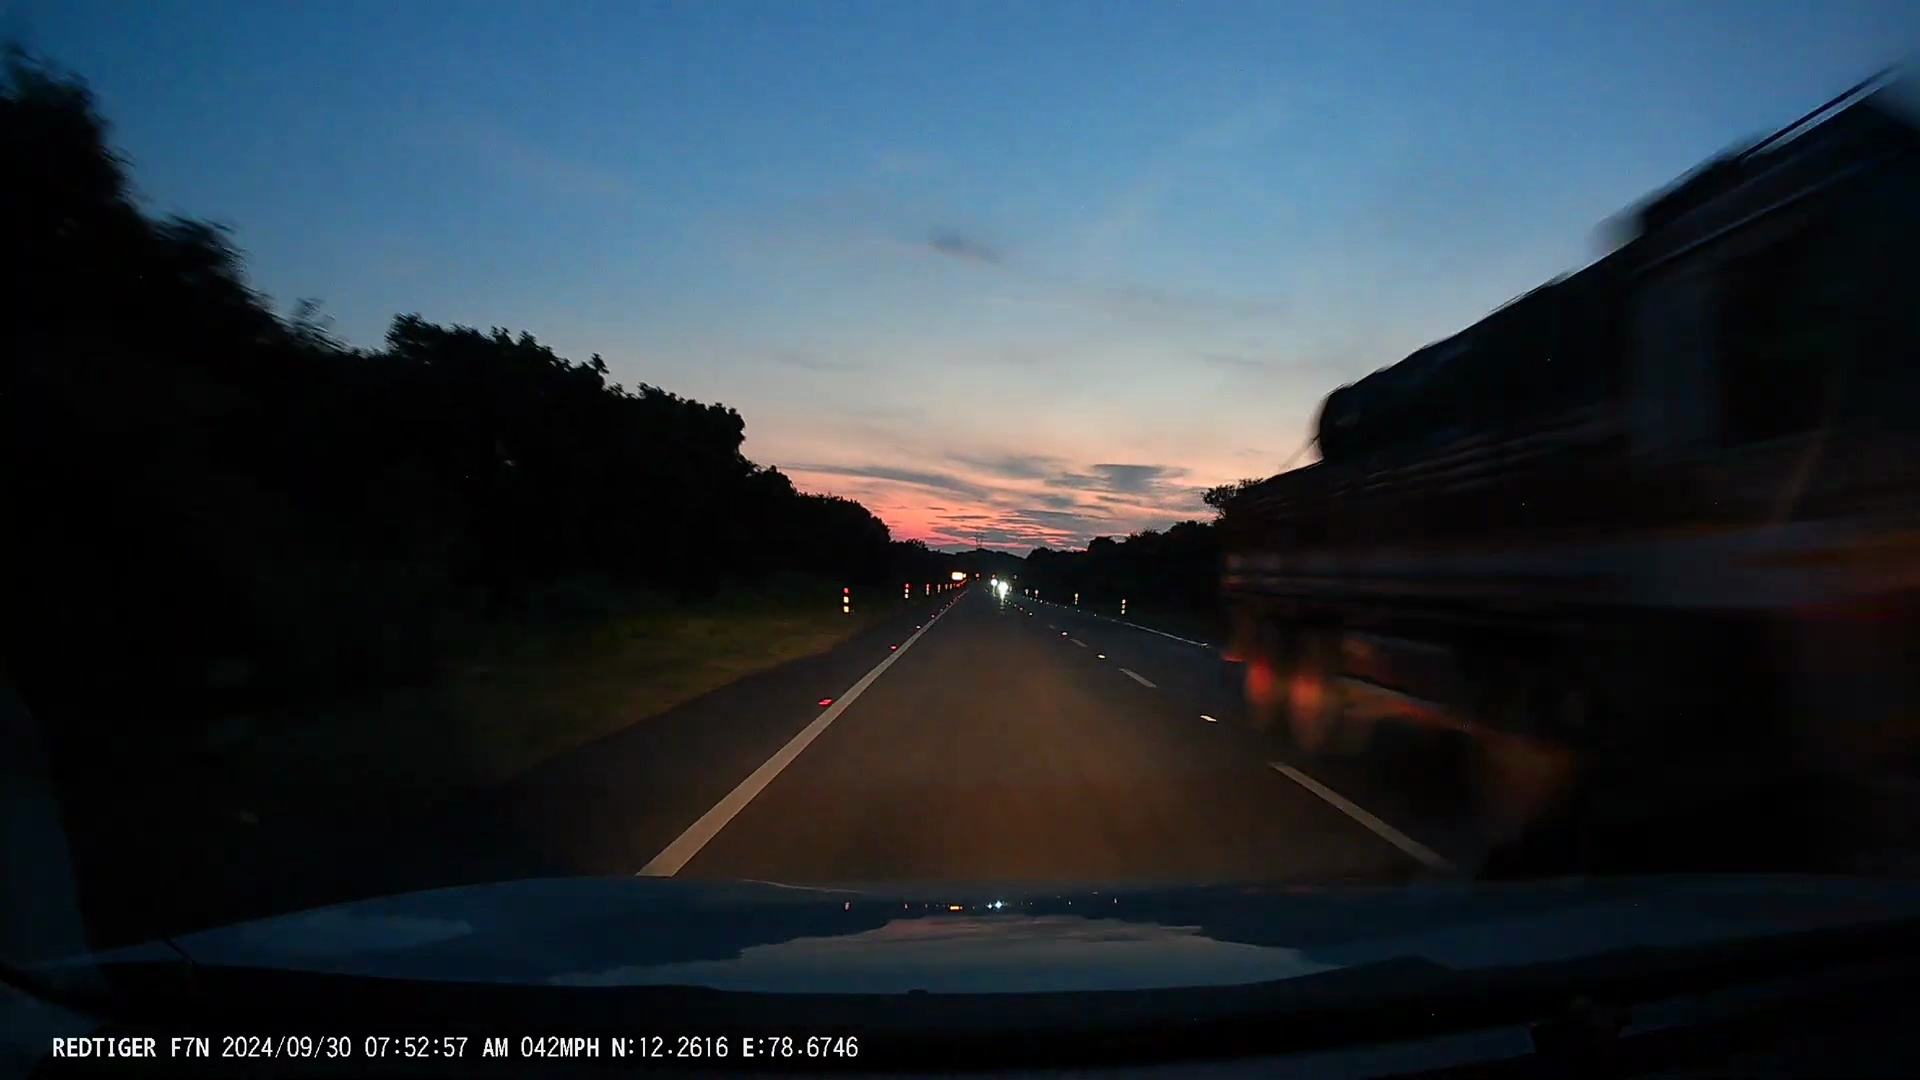headlight: (996, 580, 1010, 597), (989, 579, 998, 585)
two wheeler: (982, 575, 1021, 597)
